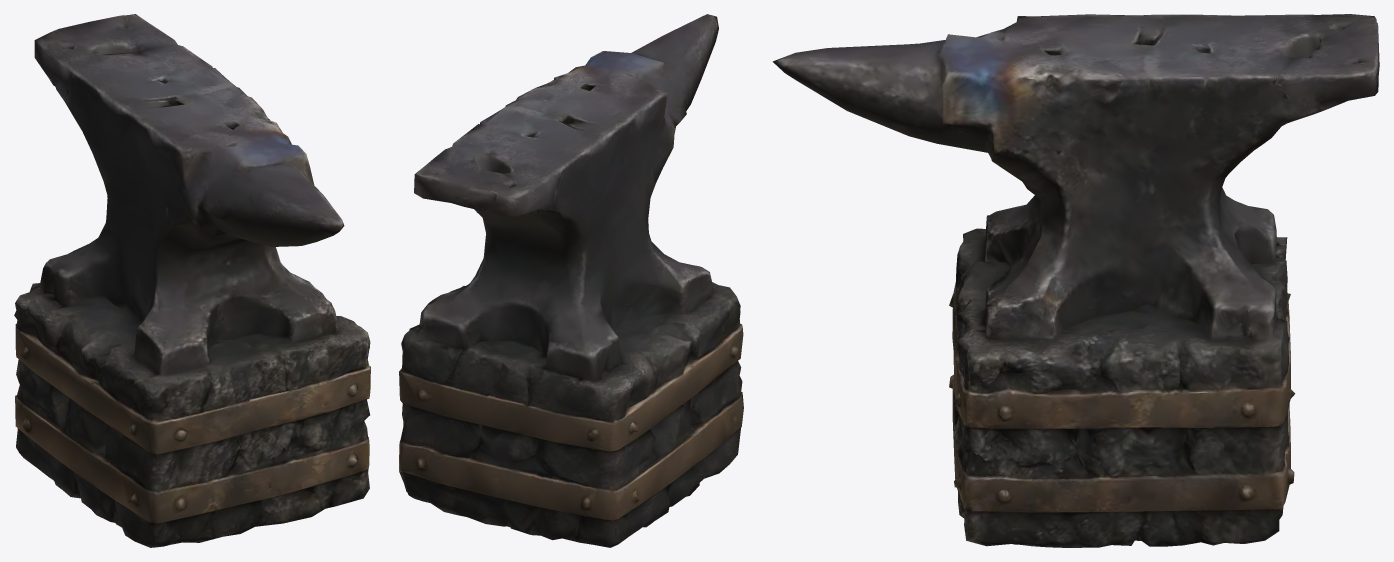
File: anvil.glb
3 renders of one model, left to right at view 1: azimuth 30°, elevation 25°; view 2: azimuth 150°, elevation 25°; view 3: azimuth 270°, elevation 25°, orthographic. The views are drawn at different scales.
Visible parts, largest first — view 1: tripo_node_559e2e54-ad16-44c4-b9c9-e1391688fc1a; view 2: tripo_node_559e2e54-ad16-44c4-b9c9-e1391688fc1a; view 3: tripo_node_559e2e54-ad16-44c4-b9c9-e1391688fc1a.
Boxes of the visible parts, x1,y1,x2,y2 form: tripo_node_559e2e54-ad16-44c4-b9c9-e1391688fc1a: (14,14,370,547); tripo_node_559e2e54-ad16-44c4-b9c9-e1391688fc1a: (399,14,743,547); tripo_node_559e2e54-ad16-44c4-b9c9-e1391688fc1a: (772,14,1379,547).
Bounding box in the file's own units: 0.5405 × 0.8181 × 1.
1 material, 1 textured.
